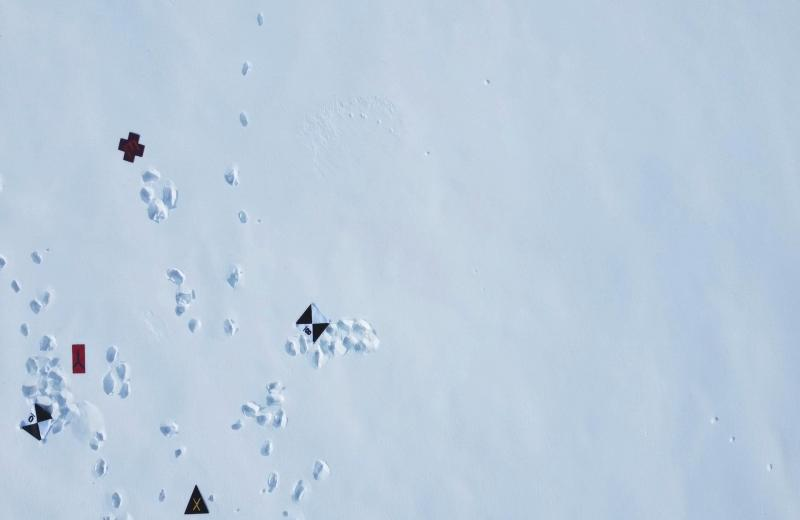Cross: (113, 126, 147, 166)
Rectangle: (64, 340, 90, 380)
Triangle: (179, 478, 214, 520)
